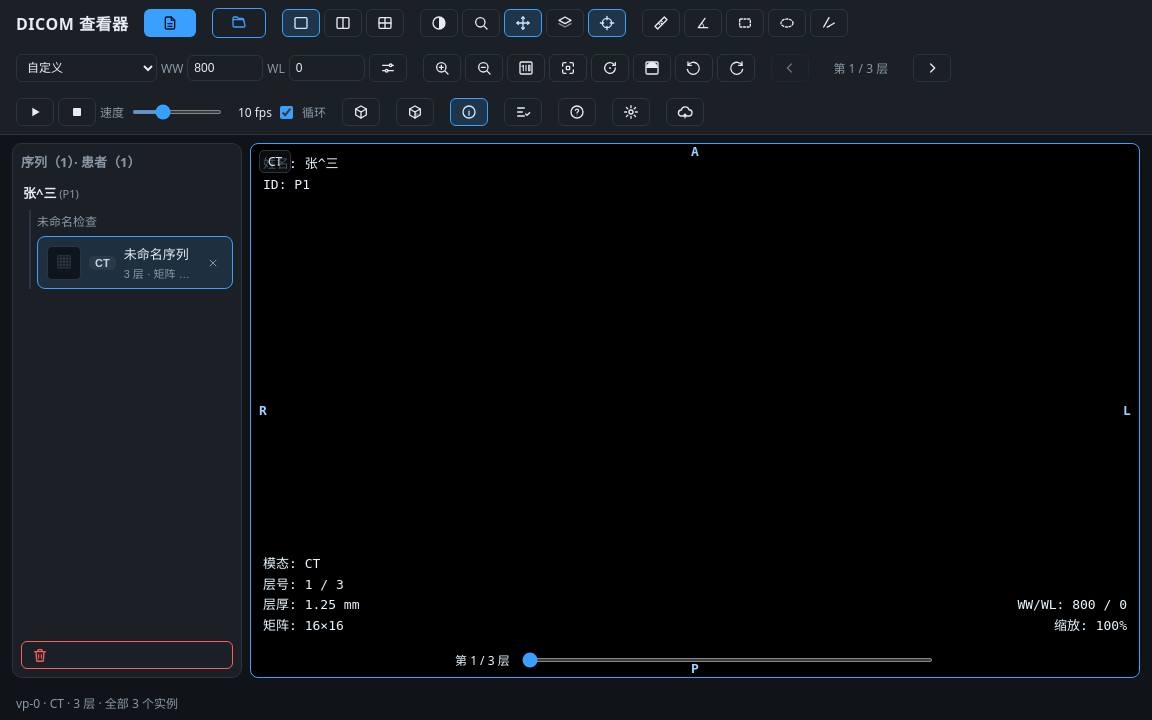
Test: App × 3D 体绘制（FR-7.1/7.12） › 3D 与 MPR 互斥：进入 3D 时退出 MPR（共用引擎不冲突）
Click the button named "MPR 多平面重建（单轴向 ⇄ 三平面）": (361, 112) [342, 98, 380, 126]
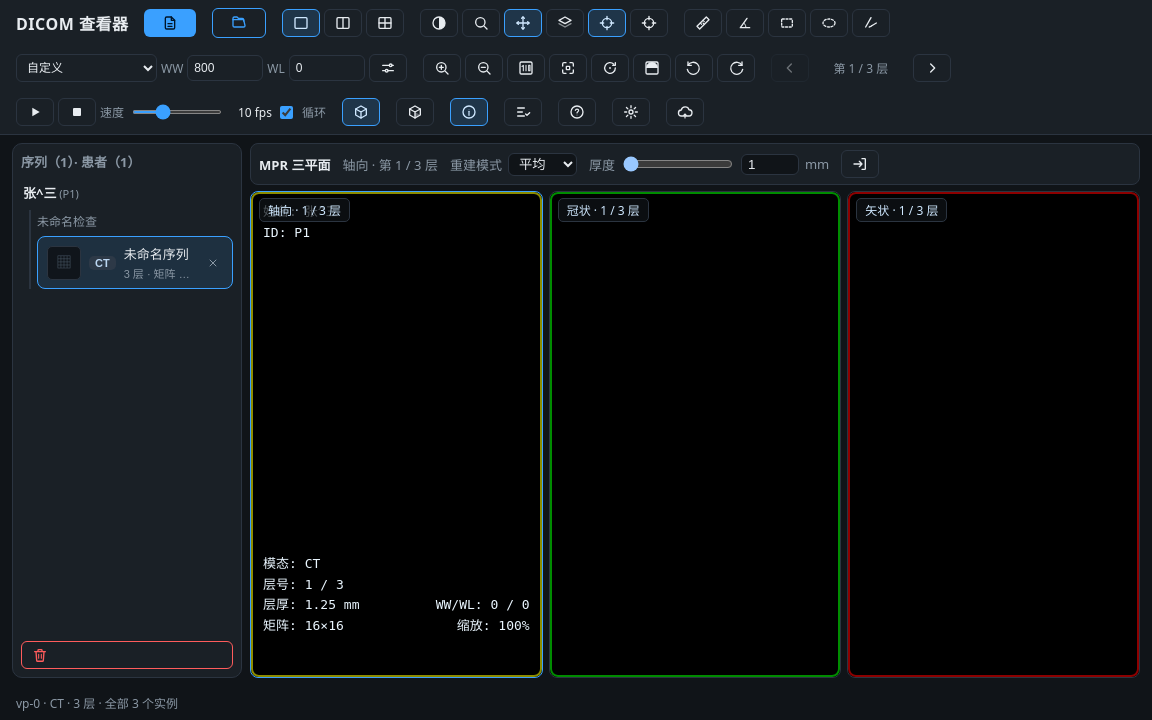
Expected: the text "MPR 三平面" is shown, [259, 154, 330, 174]
Click the button named "3D 体绘制（vtk.js 光线投射）": (415, 112) [396, 98, 434, 126]
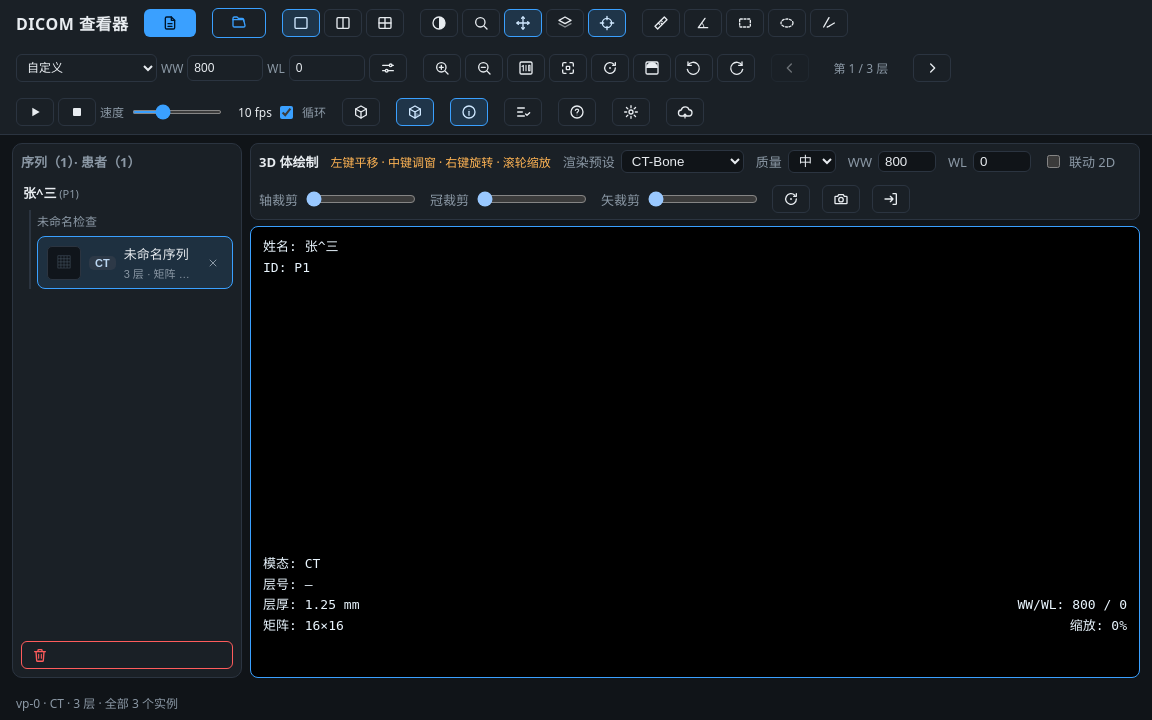
Expected: the text "3D 体绘制" is shown, [259, 152, 318, 171]
Expected: the text "MPR 三平面" is gone
